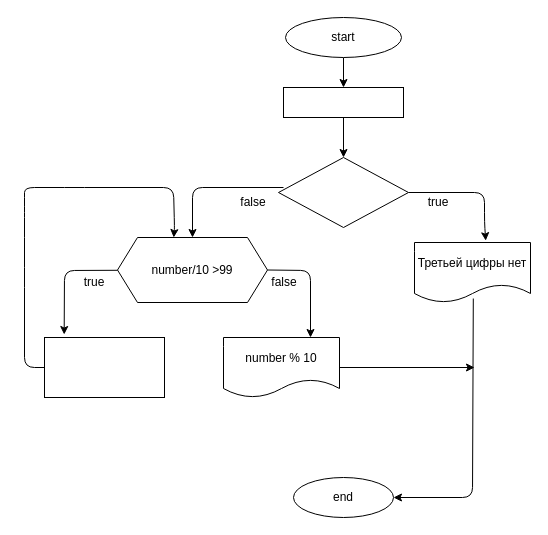
This 548x535 diagram has some shape labels left out. The shapes that lost their labels are listed below. From the top down, each one's centre as x and y in pixels, then its label:
the point at 343,102: number
the point at 343,192: number /10 <10
the point at 104,367: number= number/10
